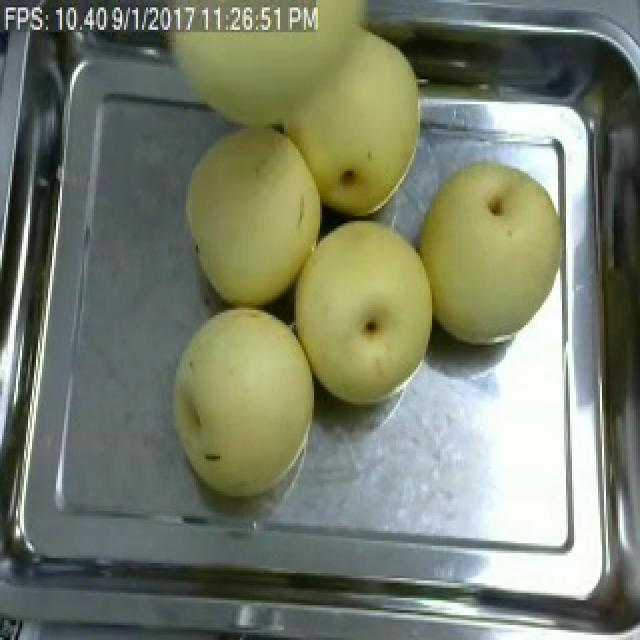Fruit: (244, 22, 436, 226), (172, 114, 338, 318), (408, 146, 568, 355), (162, 300, 324, 506), (278, 208, 440, 412)
